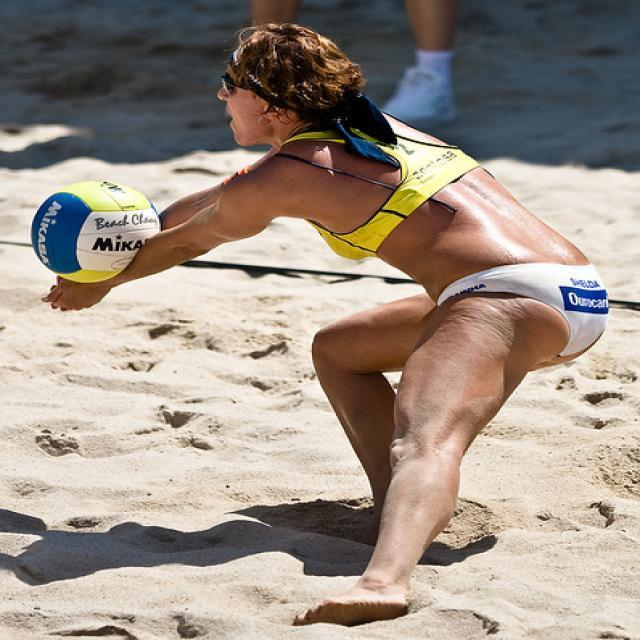volleyball: (30, 178, 164, 283)
